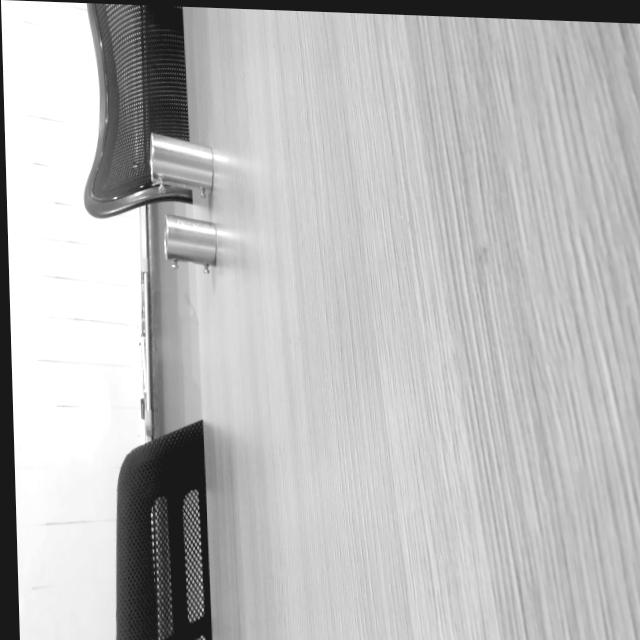Co_Lon: (142, 133, 217, 200)
Co_Nho: (158, 214, 221, 273)
